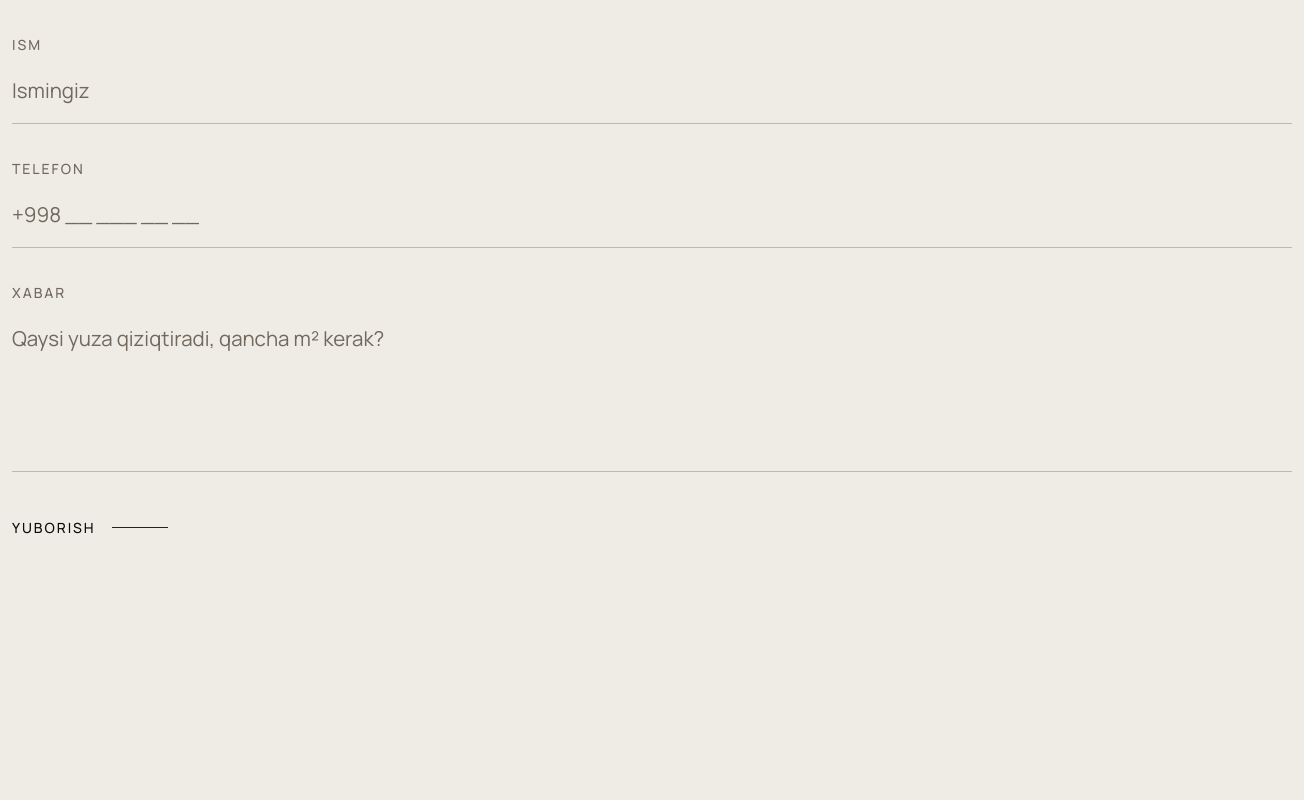
Scenario: Forma — xato maydon bo‘lsa so‘rov ketmaydi
Type "A" into the field labelled "Ism". click: (652, 91)
box: [12,58,1292,124]
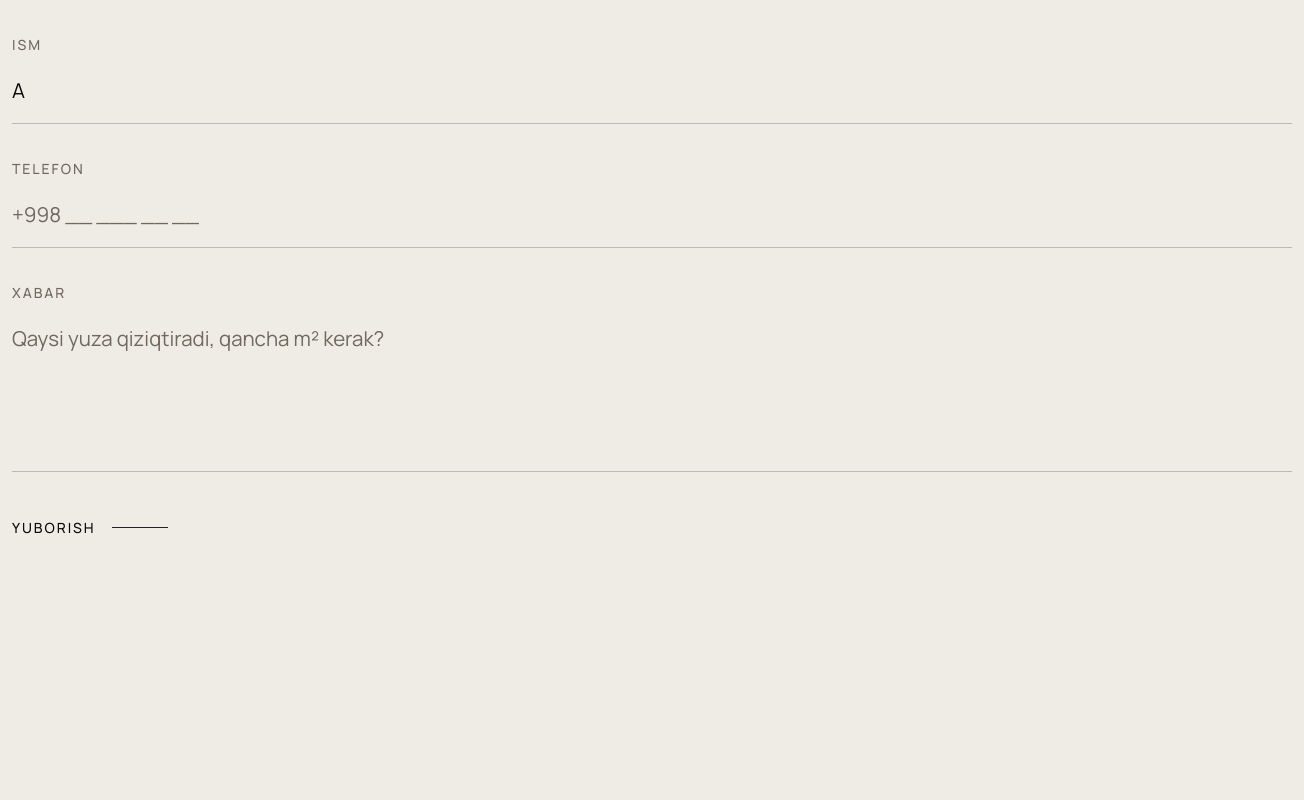
Click the button "Yuborish". click: (90, 527)
box: [12,520,168,535]
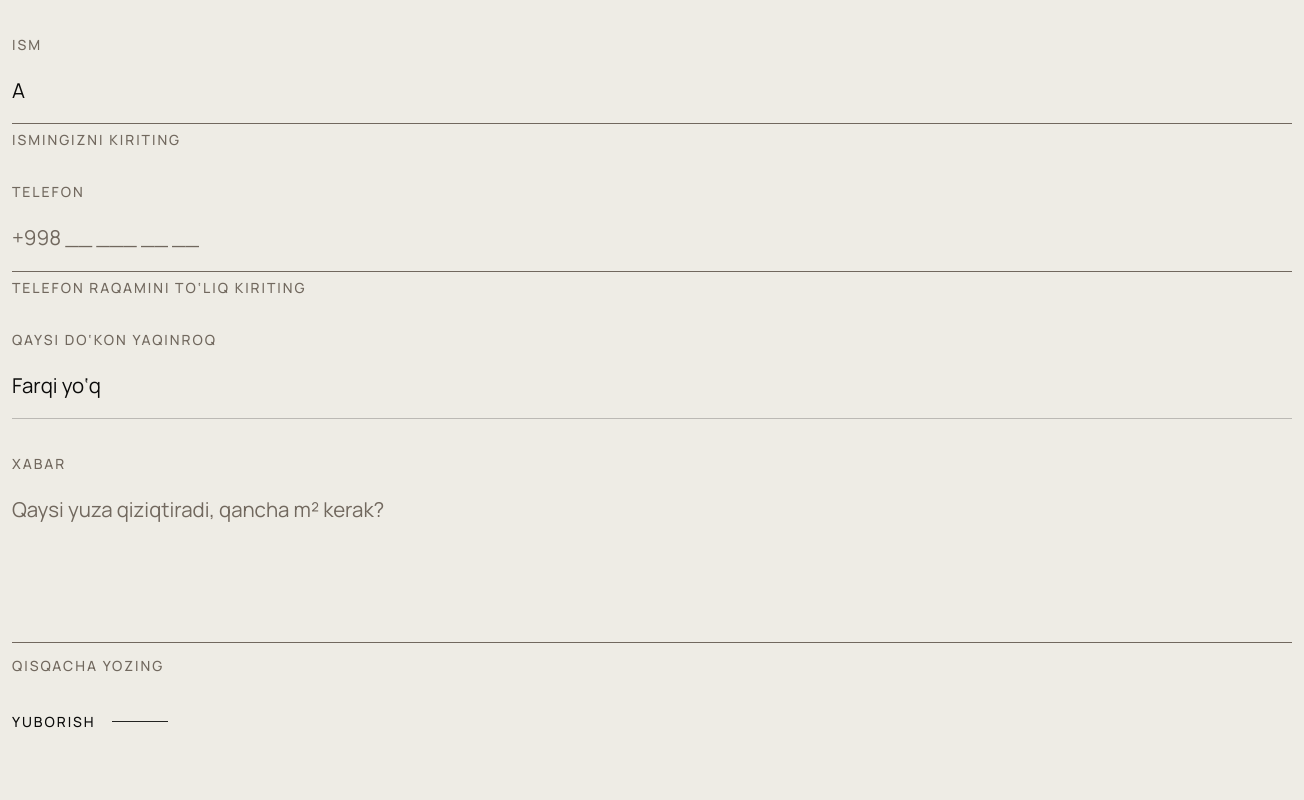
Result: the text "Ismingizni kiriting" is shown at [12,130,181,149]
Result: the text "Telefon raqamini to‘liq kiriting" is shown at [12,278,306,296]
